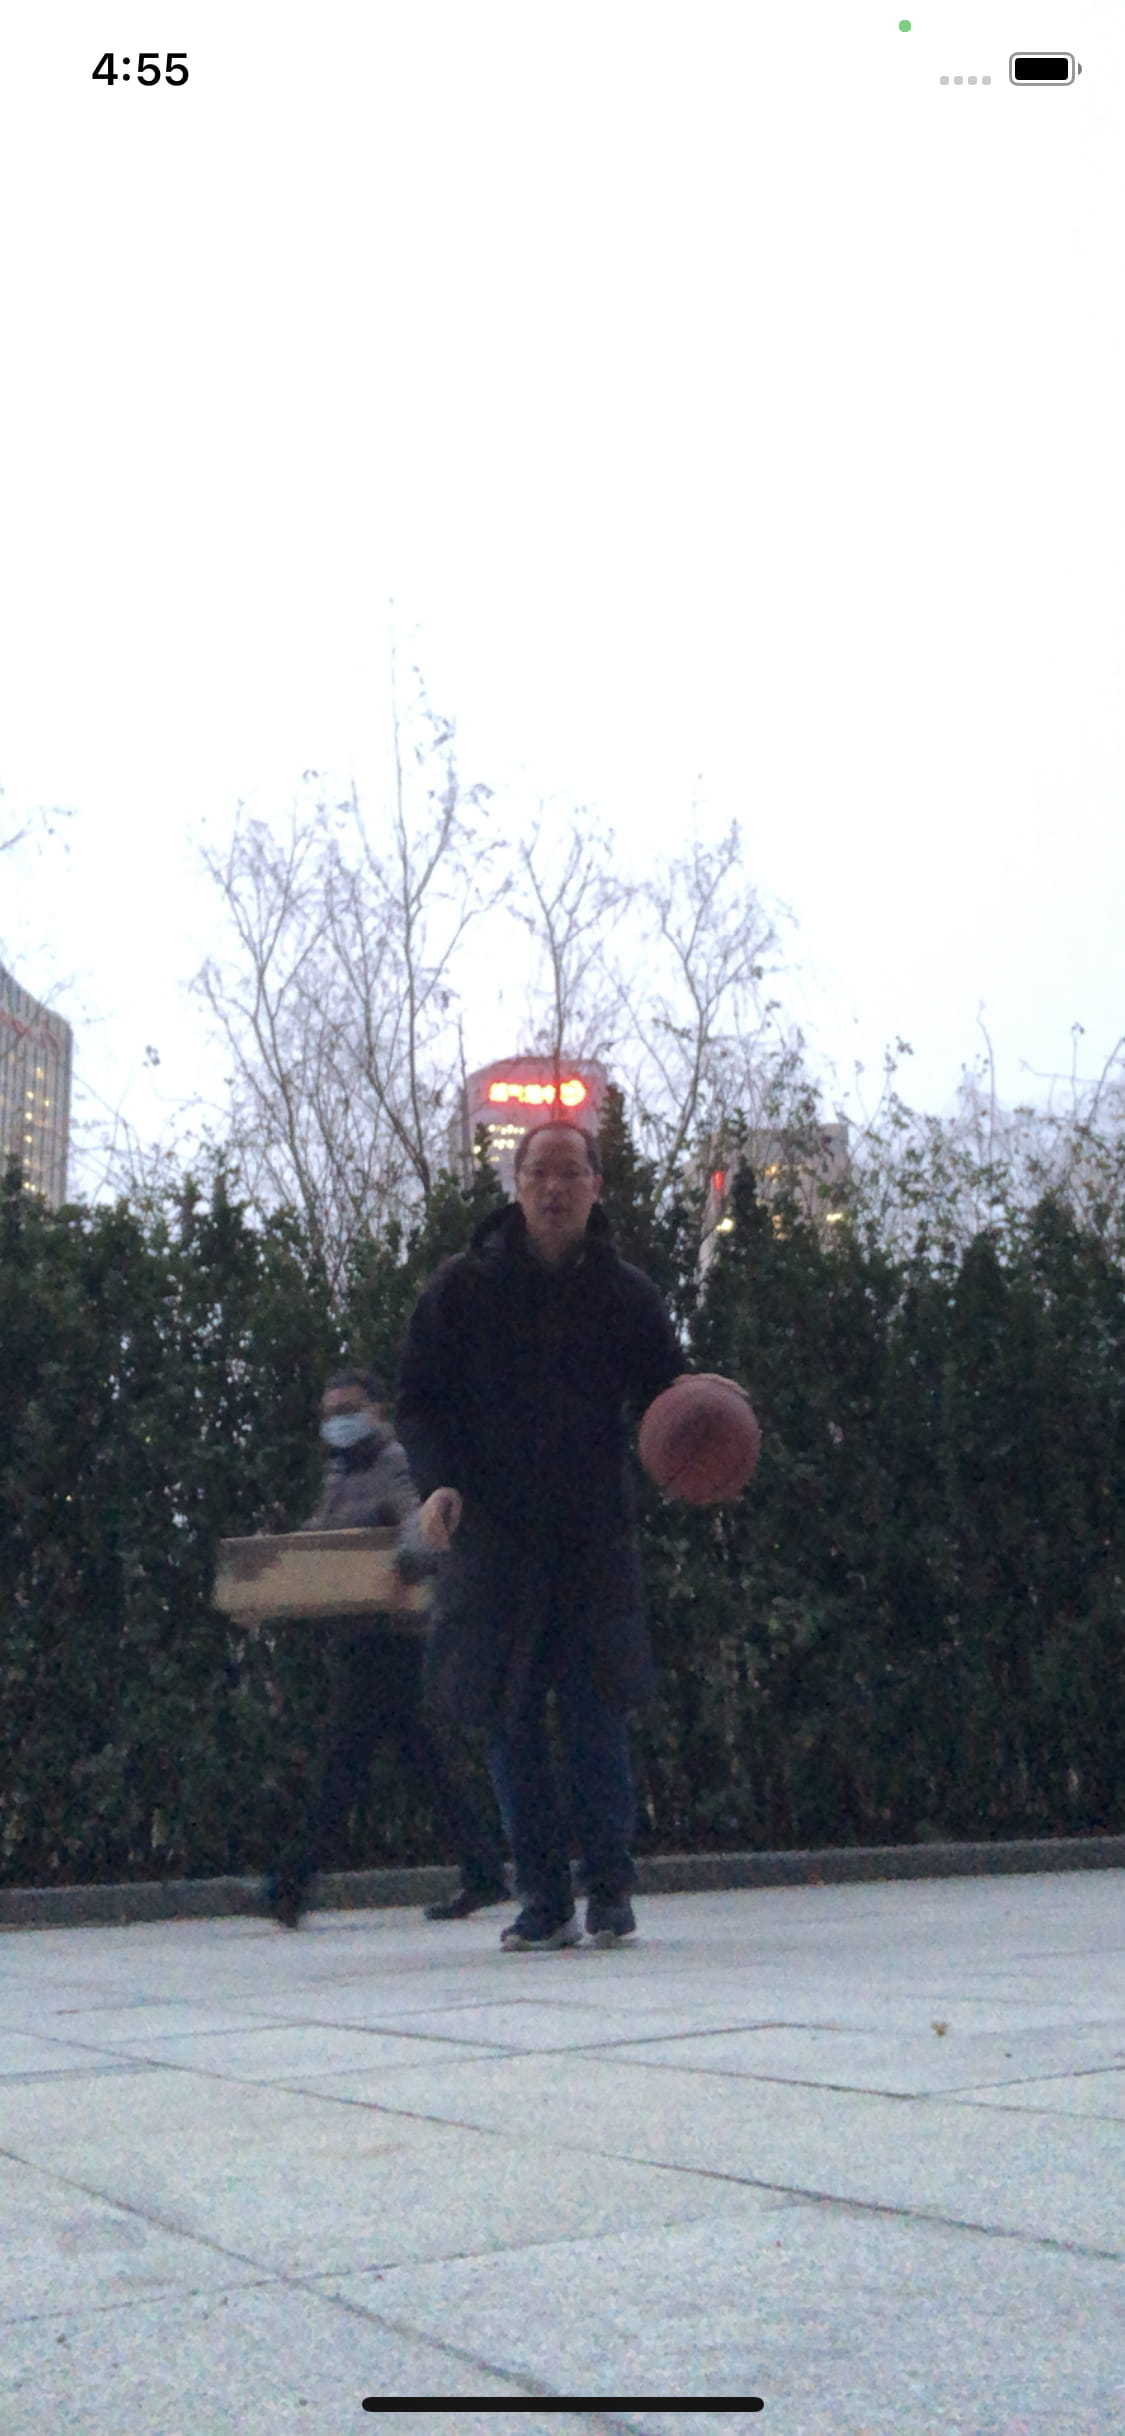ball: (640, 1378, 761, 1504)
